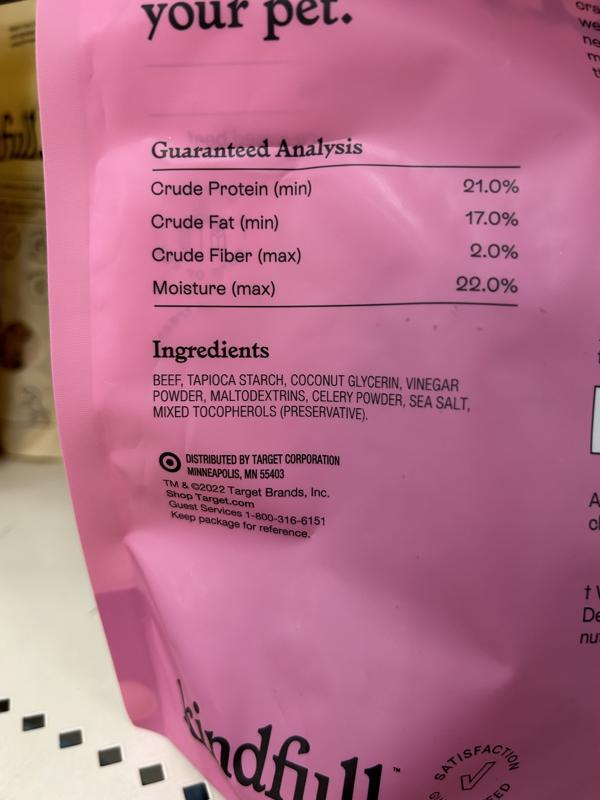ingredients: (151, 335, 472, 422)
